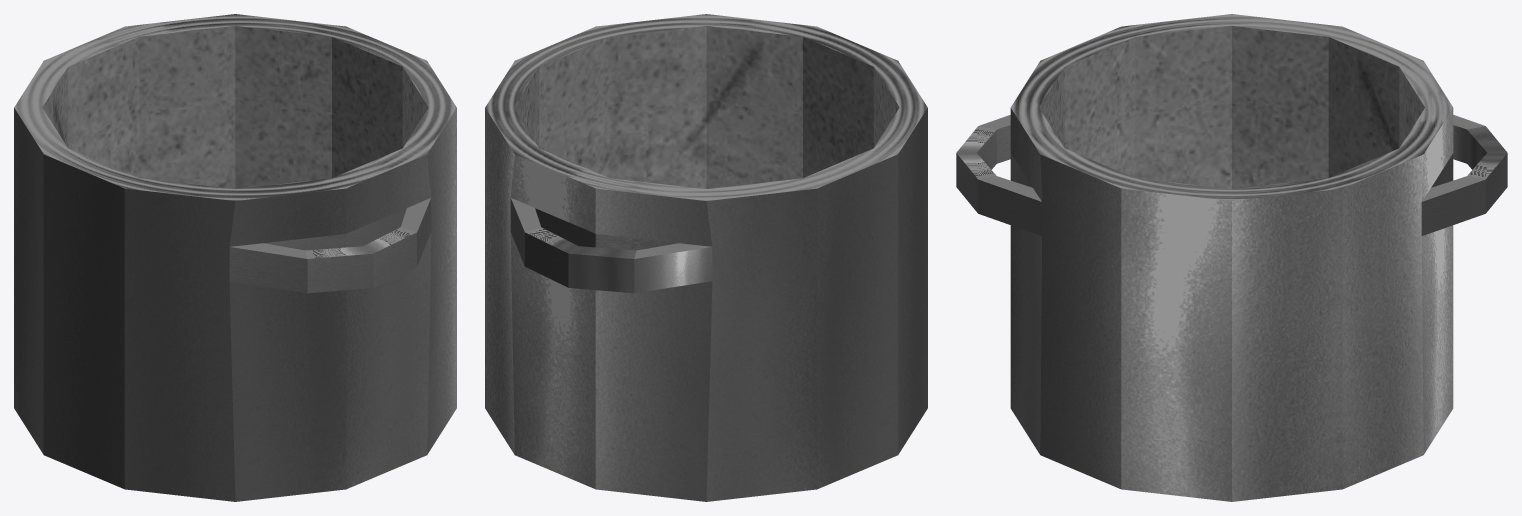
The model's file is stewpot.glb.
The picture shows the model from 3 angles, left to right: view 1: azimuth 30°, elevation 25°; view 2: azimuth 150°, elevation 25°; view 3: azimuth 270°, elevation 25°; orthographic projection.
Parts seen in each view (by area): view 1: StewPot; view 2: StewPot; view 3: StewPot.
Boxes of the visible parts, <box> form: StewPot: <box>14,14,456,501</box>; StewPot: <box>485,14,927,501</box>; StewPot: <box>956,14,1507,501</box>.
Size of the model in its own units: 2 by 1.5 by 2.49.
Materials: 1 (1 with a texture image).
